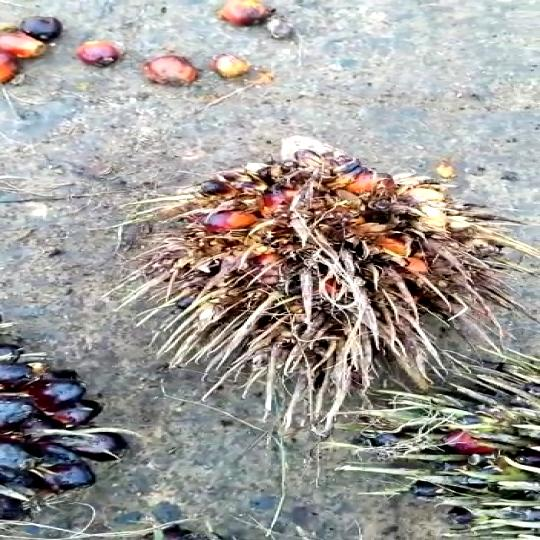terlalu masak: (96, 143, 540, 429)
